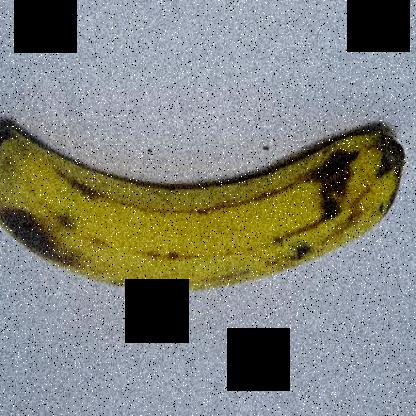ripe: (1, 97, 413, 300)
